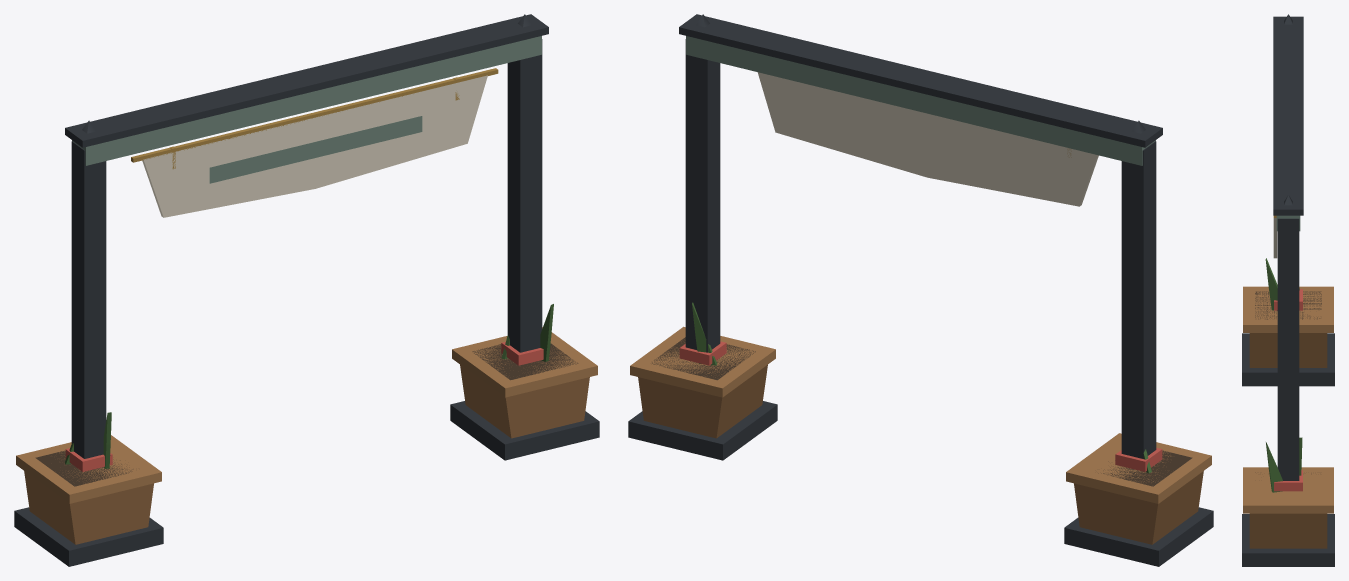
Rendered from city-welcome-gate.glb.
3 renders of one model, left to right at view 1: azimuth 30°, elevation 25°; view 2: azimuth 150°, elevation 25°; view 3: azimuth 270°, elevation 25°, orthographic. The views are drawn at different scales.
Visible parts, largest first — view 1: Merged_city-metal-dark, Merged_prop-body-light, Merged_city-timber, Merged_prop-body, Merged_city-timber-light, Merged_welcome-banner-ink-surface, Merged_city-soil, Merged_city-brass, Merged_prop-accent, Merged_city-foliage-deep; view 2: Merged_city-metal-dark, Merged_prop-body-light, Merged_city-timber, Merged_city-timber-light, Merged_prop-body, Merged_city-soil, Merged_prop-accent; view 3: Merged_city-metal-dark, Merged_city-timber-light, Merged_city-timber, Merged_city-foliage-deep, Merged_city-soil, Merged_prop-accent, Merged_prop-body-light, Merged_prop-body.
Boxes of the visible parts, bbox=[...] form: Merged_city-metal-dark: bbox=[14, 14, 599, 566]; Merged_prop-body-light: bbox=[142, 75, 487, 217]; Merged_city-timber: bbox=[24, 364, 589, 544]; Merged_prop-body: bbox=[72, 36, 541, 165]; Merged_city-timber-light: bbox=[16, 327, 597, 503]; Merged_welcome-banner-ink-surface: bbox=[209, 116, 422, 183]; Merged_city-soil: bbox=[35, 343, 578, 486]; Merged_city-brass: bbox=[131, 68, 498, 169]; Merged_prop-accent: bbox=[65, 342, 543, 471]; Merged_city-foliage-deep: bbox=[64, 304, 553, 468]; Merged_city-metal-dark: bbox=[628, 14, 1213, 566]; Merged_prop-body-light: bbox=[757, 72, 1098, 206]; Merged_city-timber: bbox=[638, 364, 1203, 544]; Merged_city-timber-light: bbox=[630, 326, 1211, 503]; Merged_prop-body: bbox=[686, 36, 1155, 165]; Merged_city-soil: bbox=[652, 337, 1192, 486]; Merged_prop-accent: bbox=[679, 341, 1162, 471]; Merged_city-metal-dark: bbox=[1242, 14, 1334, 566]; Merged_city-timber-light: bbox=[1243, 286, 1333, 513]; Merged_city-timber: bbox=[1249, 333, 1327, 548]; Merged_city-foliage-deep: bbox=[1265, 258, 1302, 492]; Merged_city-soil: bbox=[1255, 291, 1321, 474]; Merged_prop-accent: bbox=[1274, 289, 1302, 491]; Merged_prop-body-light: bbox=[1273, 218, 1277, 258]; Merged_prop-body: bbox=[1276, 215, 1300, 231].
Size of what is drawn, in the model's own units: 4.82 by 3.6 by 0.86.
